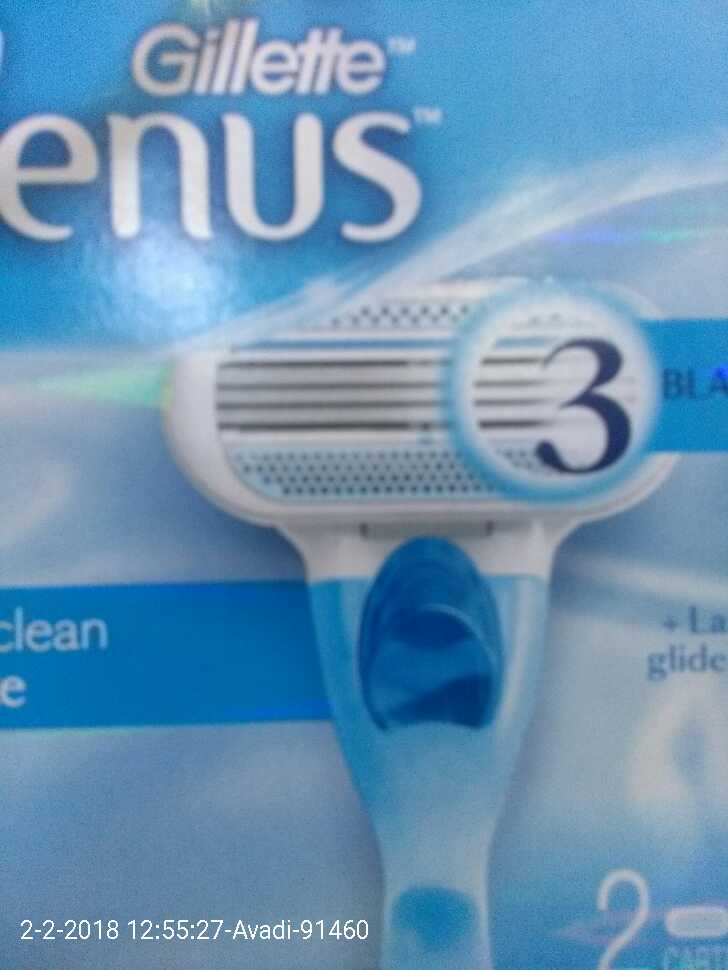beauty: (178, 269, 667, 970)
